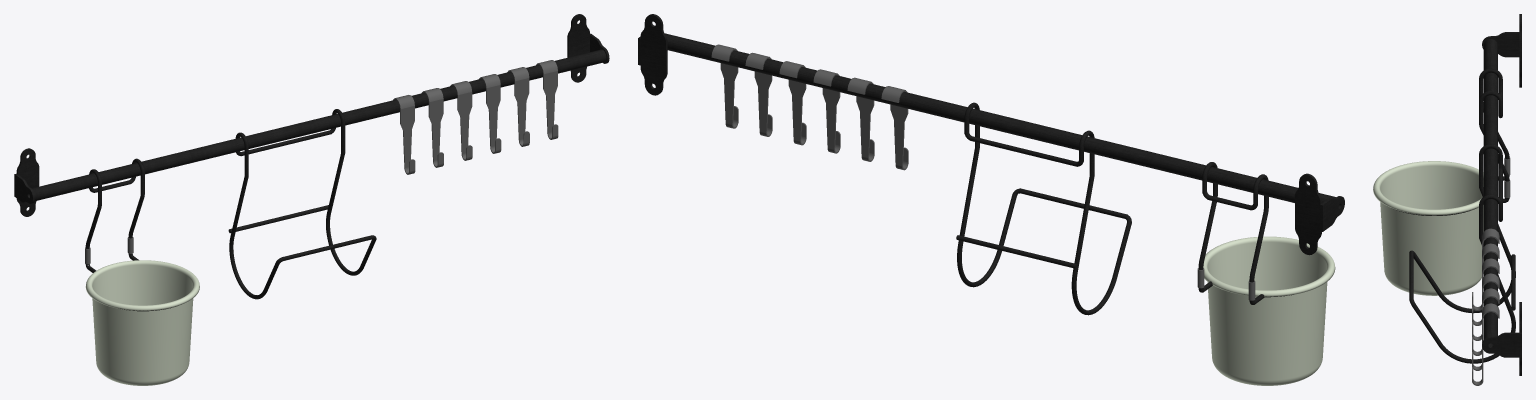
The model's file is 080 - stand divari jadid meshki goldan sabz.glb.
3 views of the same model, side by side, from view 1: azimuth 30°, elevation 25°; view 2: azimuth 150°, elevation 25°; view 3: azimuth 270°, elevation 25° (orthographic). The views are drawn at different scales.
Parts seen in each view (by area): view 1: Group#30 [90072], Group#5 [90059], Group#1 [127862] (×6), Group#14 [90047], [75501], [22112], [22995]; view 2: Group#30 [90072], Group#5 [90059], Group#1 [127862] (×6), Group#14 [90047], [22112], [75501], [22995], Group#15 [90046], Group#159 [22648]; view 3: Group#30 [90072], Group#5 [90059], Group#14 [90047], Group#1 [127862] (×6), Group#159 [22648] (×2), [75501], Group#15 [90046], [22995], [22112].
Part boxes in pixels (x1,y1,x2,y2): Group#30 [90072]: (85, 260, 199, 385); Group#5 [90059]: (32, 49, 606, 201); Group#1 [127862] (×6): (393, 60, 558, 174); Group#14 [90047]: (229, 109, 376, 299); [75501]: (85, 158, 175, 311); [22112]: (567, 14, 589, 82); [22995]: (16, 148, 39, 216); Group#30 [90072]: (1203, 236, 1335, 385); Group#5 [90059]: (664, 33, 1336, 203); Group#1 [127862] (×6): (711, 44, 908, 170); Group#14 [90047]: (957, 102, 1131, 315); [22112]: (640, 14, 667, 95); [75501]: (1198, 162, 1293, 304); [22995]: (1295, 173, 1321, 255); Group#15 [90046]: (956, 235, 1077, 268); Group#159 [22648]: (1320, 196, 1344, 231); Group#30 [90072]: (1373, 161, 1483, 295); Group#5 [90059]: (1483, 39, 1497, 346); Group#14 [90047]: (1409, 144, 1515, 363); Group#1 [127862] (×6): (1472, 228, 1499, 385); Group#159 [22648] (×2): (1482, 32, 1521, 357); [75501]: (1392, 68, 1509, 215); Group#15 [90046]: (1511, 254, 1515, 310); [22995]: (1519, 14, 1521, 87); [22112]: (1519, 302, 1521, 375).
Bounding box in the file's own units: 0.806 × 0.2792 × 0.168.
4 materials, 2 textured.
